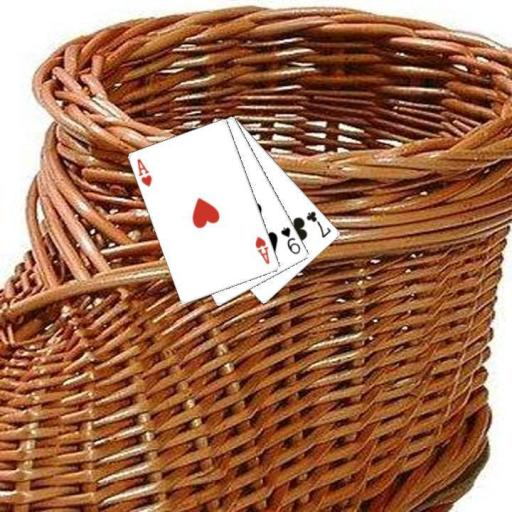card-corner: (303, 208, 333, 240), (278, 224, 302, 256), (252, 233, 272, 266), (134, 156, 154, 188)
